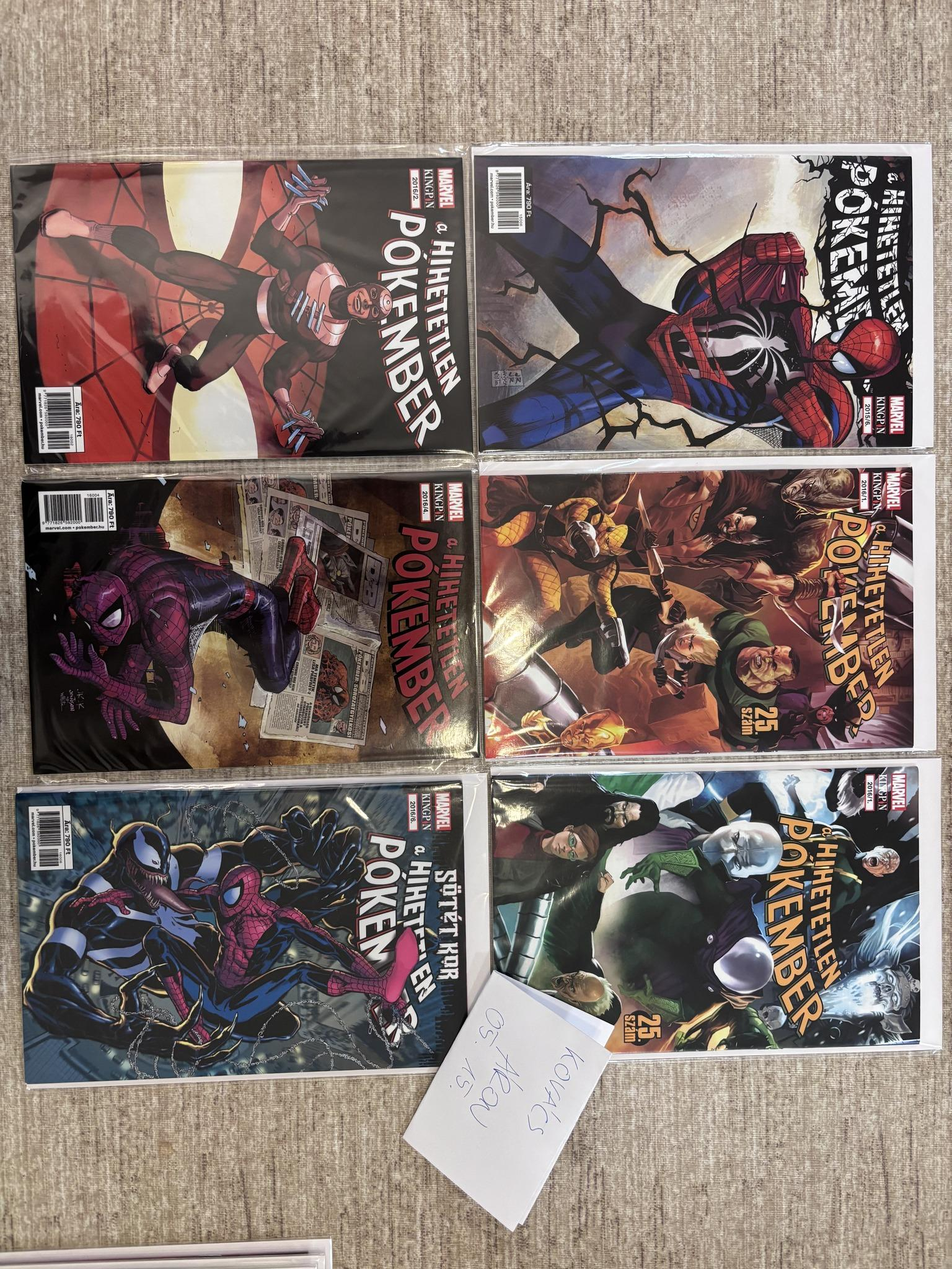comic: (12, 150, 473, 467), (16, 776, 481, 1085), (22, 464, 482, 776), (479, 453, 940, 759), (474, 144, 932, 452), (491, 759, 945, 1057)
